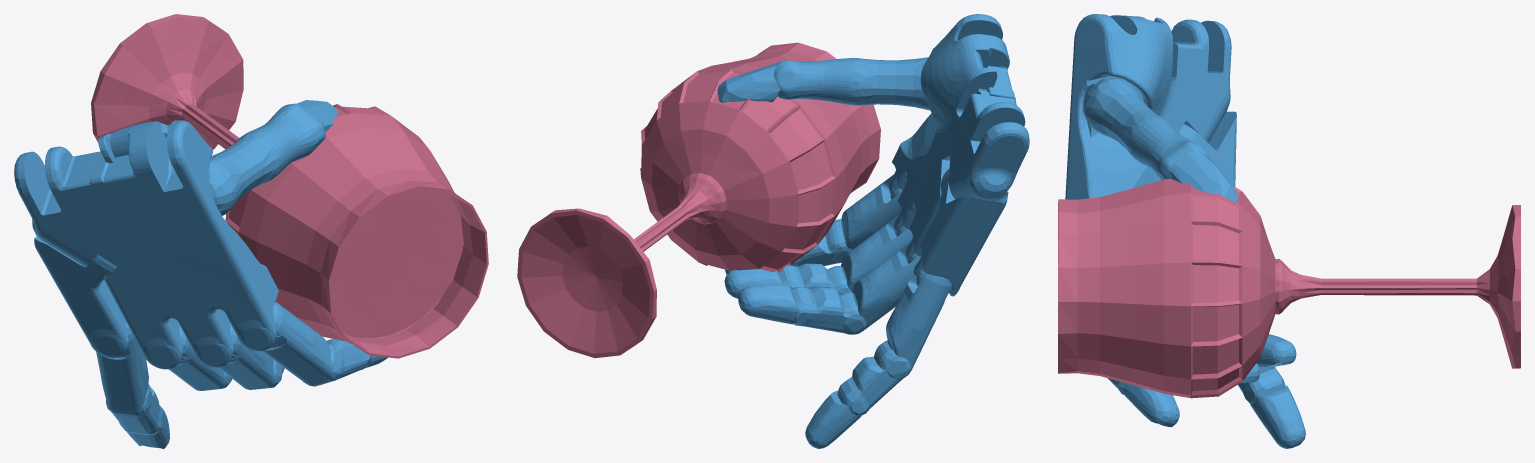
The picture shows the model from 3 angles, left to right: view 1: azimuth 30°, elevation 25°; view 2: azimuth 150°, elevation 25°; view 3: azimuth 270°, elevation 25°; orthographic projection. The views are drawn at different scales.
Visible parts, largest first — view 1: 5; view 2: 5; view 3: 5.
Part boxes in pixels (<box>): 5: <box>14,14,488,448</box>; 5: <box>517,14,1029,448</box>; 5: <box>1058,14,1520,448</box>.
Bounding box in the file's own units: 0.2014 × 0.1921 × 0.2031.
